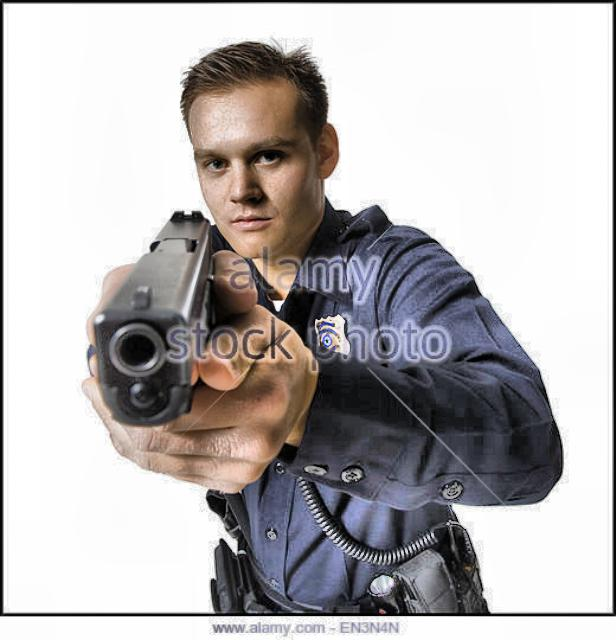pistol: (89, 208, 222, 418)
